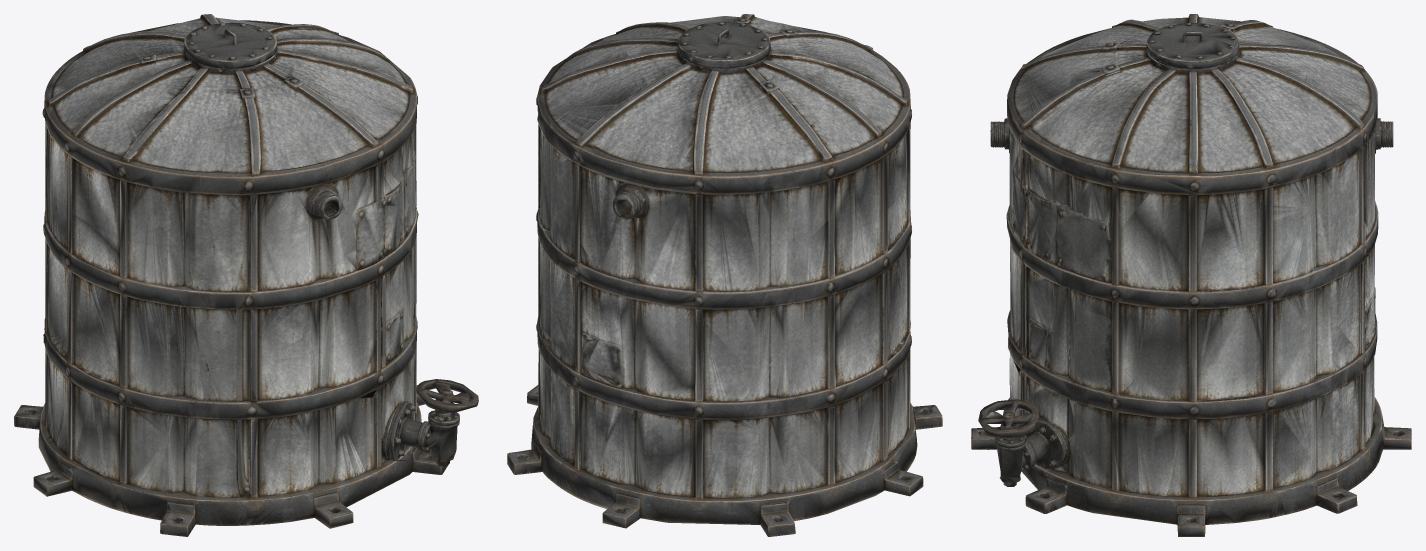
Rendered from tank_steel.glb.
3 views of the same model, side by side, from view 1: azimuth 30°, elevation 25°; view 2: azimuth 150°, elevation 25°; view 3: azimuth 270°, elevation 25° (orthographic).
Visible parts, largest first — view 1: tank_steel; view 2: tank_steel; view 3: tank_steel.
Part boxes in pixels (bbox=[...]): tank_steel: bbox=[14, 14, 478, 536]; tank_steel: bbox=[507, 14, 942, 536]; tank_steel: bbox=[971, 14, 1411, 536].
Size of the model in its own units: 184 by 190 by 184.
Materials: 1 (1 with a texture image).
